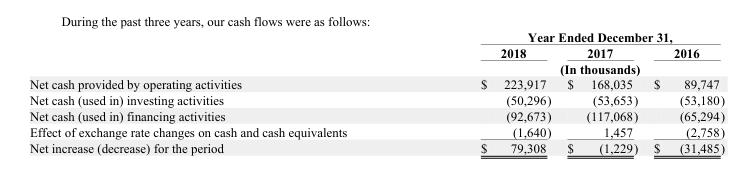table: (28, 29, 724, 154)
table column: (28, 29, 413, 154), (413, 29, 558, 154), (558, 29, 645, 154), (645, 29, 724, 154)
table column header: (28, 29, 724, 76)
table row: (28, 44, 724, 60), (28, 60, 724, 76), (28, 91, 724, 107), (28, 107, 724, 123), (28, 123, 724, 139), (28, 29, 724, 44), (28, 76, 724, 91), (28, 139, 724, 154)
table spanning cell: (413, 60, 724, 76), (413, 29, 724, 44)
